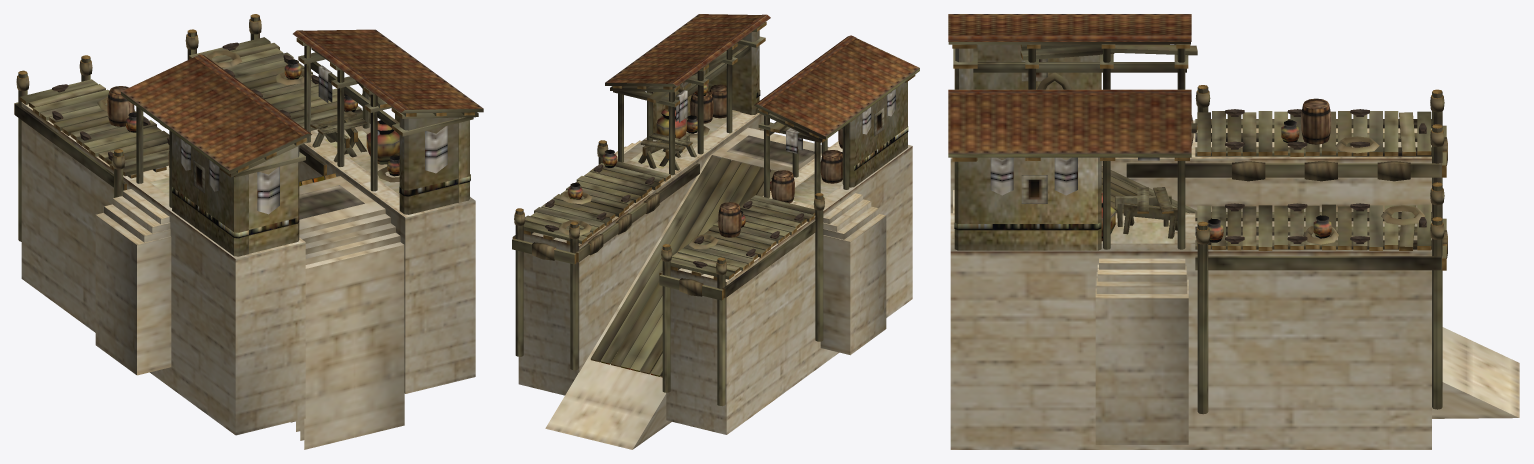
File: spart_dock.glb
3 views of the same model, side by side, from view 1: azimuth 30°, elevation 25°; view 2: azimuth 150°, elevation 25°; view 3: azimuth 270°, elevation 25° (orthographic). The views are drawn at different scales.
Parts seen in each view (by area): view 1: spart_dock_part0; view 2: spart_dock_part0; view 3: spart_dock_part0.
Part boxes in pixels (x1=…): spart_dock_part0: x1=14, y1=14, x2=483, y2=449; spart_dock_part0: x1=512, y1=14, x2=919, y2=449; spart_dock_part0: x1=948, y1=14, x2=1519, y2=449.
Size of the model in its own units: 3.36 by 3.31 by 4.8.
Materials: 1 (1 with a texture image).
